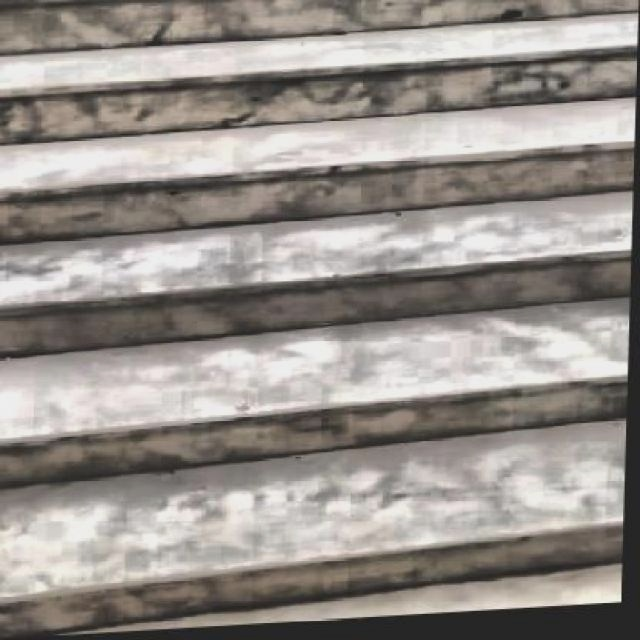stair: (0, 0, 638, 634)
